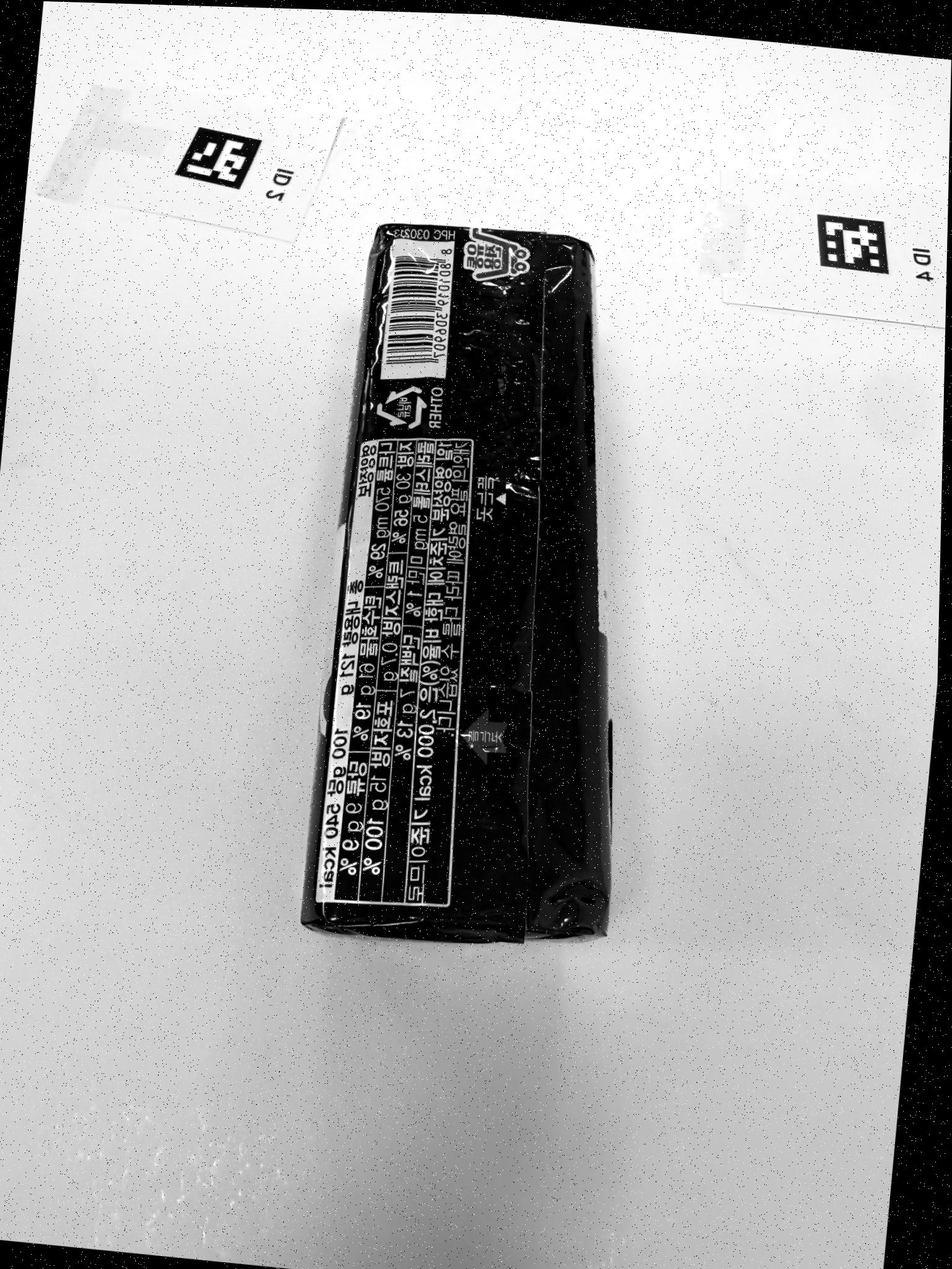cracker_ace: (302, 225, 610, 941)
